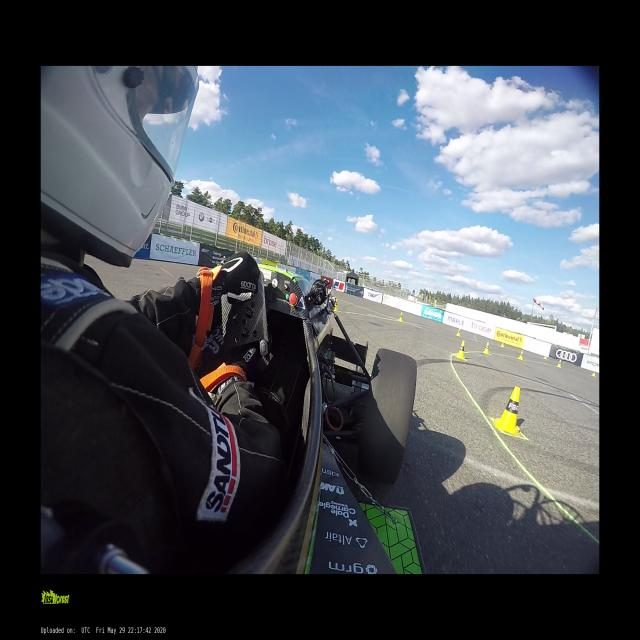yellow_cone: (495, 386, 526, 436), (454, 340, 466, 361), (483, 342, 490, 354), (518, 350, 524, 361), (398, 312, 403, 322), (556, 360, 562, 368), (334, 298, 337, 312), (456, 328, 461, 336), (592, 370, 596, 376), (501, 342, 504, 347), (544, 354, 547, 359)
